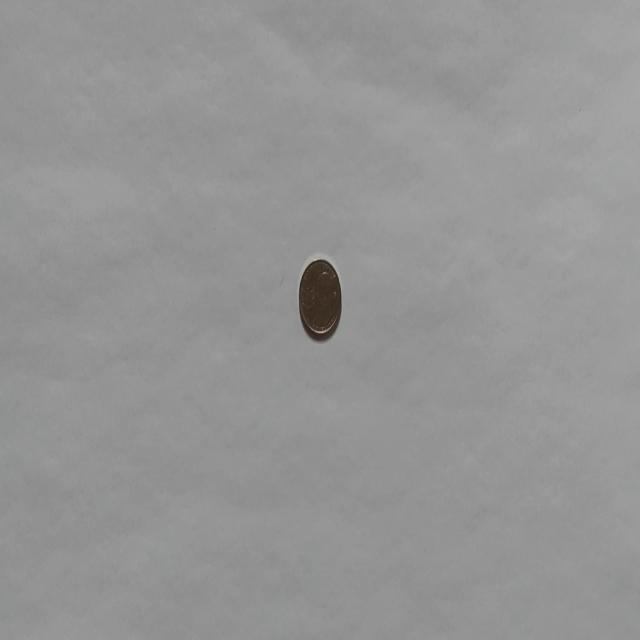seribu rupiah koin: (298, 254, 342, 340)
